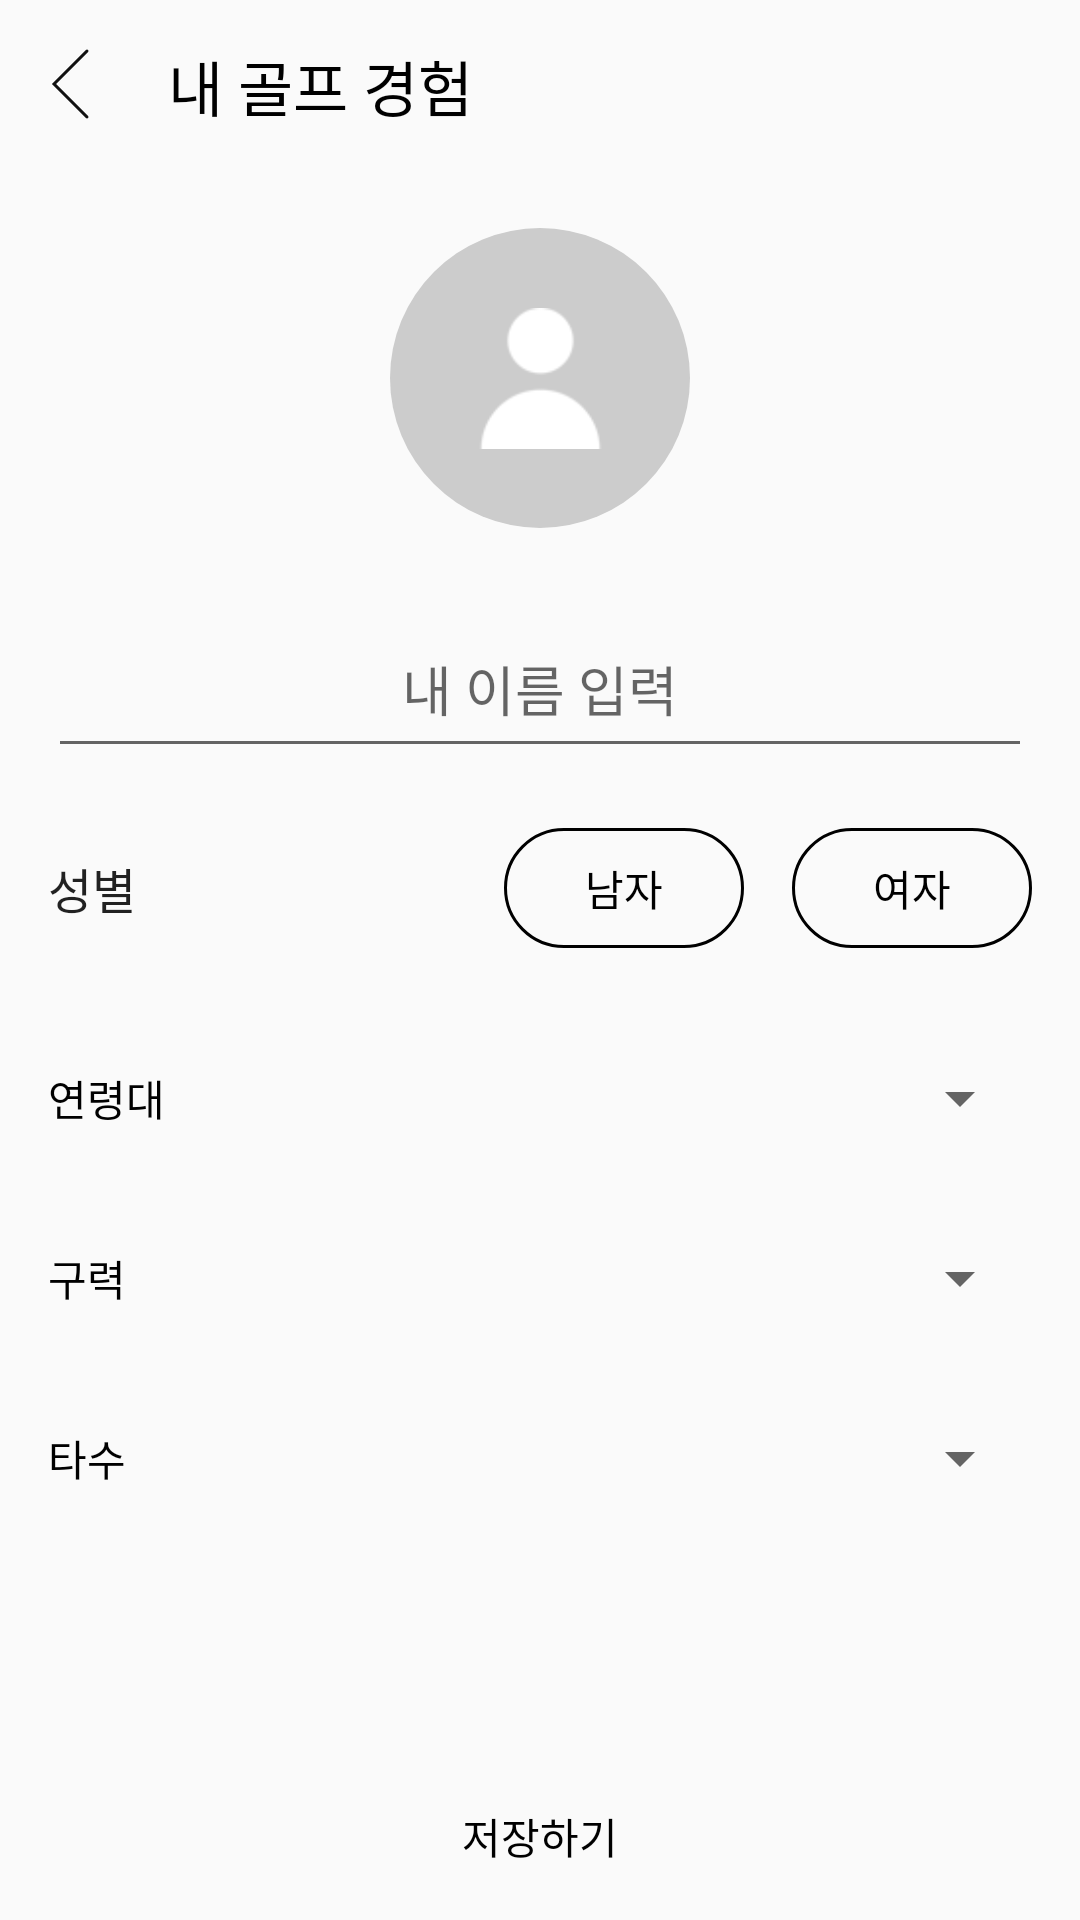

Screen size 1080px x 1920px. Icon name, then its box in pixels as (x1,y1,x2,y2):
arrow: (52,49,89,119)
